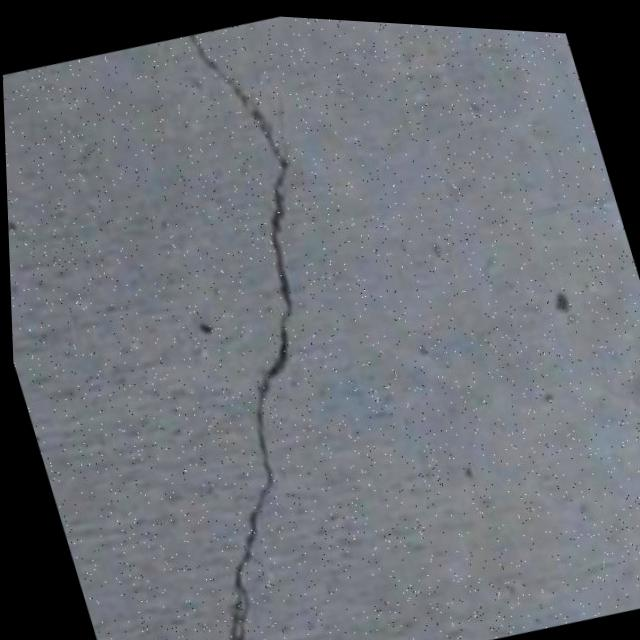Crack: (26, 6, 444, 640)
